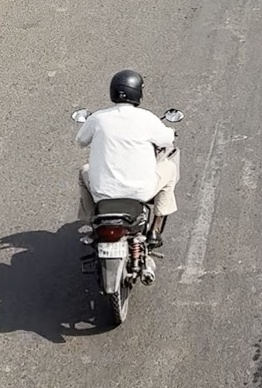BikeWithRider: (64, 64, 190, 330)
Helmet: (104, 64, 148, 110)
